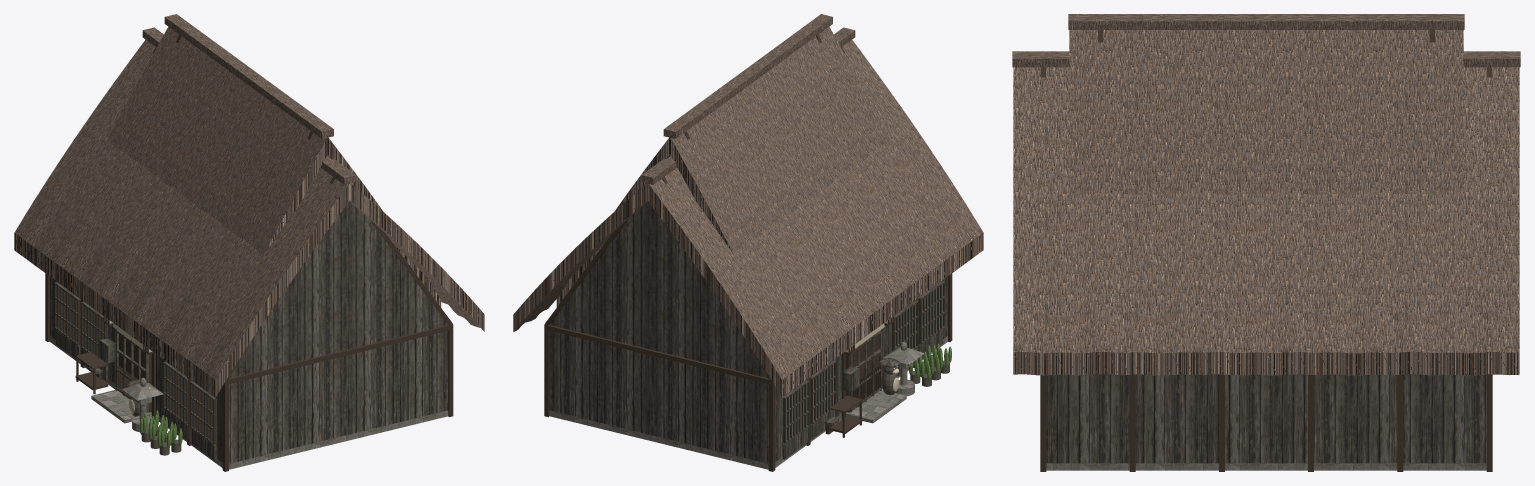
File: irori.glb
3 renders of one model, left to right at view 1: azimuth 30°, elevation 25°; view 2: azimuth 150°, elevation 25°; view 3: azimuth 270°, elevation 25°, orthographic. The views are drawn at different scales.
Visible parts, largest first — view 1: irori-restaurant_Bound kaya reeds.011, irori-restaurant_Smoke-aged cedar.011, irori-shop_Bound kaya reeds.011, irori-restaurant_Dark structural timber.011, irori-restaurant_Foundation granite.011, irori-restaurant_Irori recessed glazing, irori-restaurant_Irori garden leaves, irori-restaurant_Irori pottery charcoal; view 2: irori-restaurant_Bound kaya reeds.011, irori-restaurant_Smoke-aged cedar.011, irori-shop_Bound kaya reeds.011, irori-restaurant_Dark structural timber.011, irori-restaurant_Foundation granite.011, irori-restaurant_Irori recessed glazing, irori-restaurant_Irori garden leaves, irori-restaurant_Irori pottery charcoal; view 3: irori-restaurant_Bound kaya reeds.011, irori-shop_Bound kaya reeds.011, irori-restaurant_Smoke-aged cedar.011, irori-restaurant_Dark structural timber.011, irori-restaurant_Foundation granite.011.
Part boxes in pixels (x1,y1,x2,y2): irori-restaurant_Bound kaya reeds.011: [14, 27, 484, 397]; irori-restaurant_Smoke-aged cedar.011: [49, 201, 448, 463]; irori-shop_Bound kaya reeds.011: [107, 14, 441, 307]; irori-restaurant_Dark structural timber.011: [45, 47, 453, 471]; irori-restaurant_Foundation granite.011: [49, 336, 448, 469]; irori-restaurant_Irori recessed glazing: [56, 285, 216, 443]; irori-restaurant_Irori garden leaves: [139, 410, 182, 449]; irori-restaurant_Irori pottery charcoal: [130, 396, 181, 455]; irori-restaurant_Bound kaya reeds.011: [513, 27, 983, 397]; irori-restaurant_Smoke-aged cedar.011: [549, 201, 947, 463]; irori-shop_Bound kaya reeds.011: [556, 14, 890, 307]; irori-restaurant_Dark structural timber.011: [544, 47, 952, 471]; irori-restaurant_Foundation granite.011: [549, 336, 947, 469]; irori-restaurant_Irori recessed glazing: [782, 284, 942, 442]; irori-restaurant_Irori garden leaves: [909, 343, 951, 381]; irori-restaurant_Irori pottery charcoal: [881, 360, 949, 395]; irori-restaurant_Bound kaya reeds.011: [1012, 51, 1520, 375]; irori-shop_Bound kaya reeds.011: [1068, 14, 1464, 195]; irori-restaurant_Smoke-aged cedar.011: [1046, 374, 1486, 463]; irori-restaurant_Dark structural timber.011: [1040, 67, 1492, 471]; irori-restaurant_Foundation granite.011: [1046, 463, 1486, 470].
Size of the model in its own units: 10.9 by 11.31 by 13.55.
Materials: 12 (3 with a texture image).
